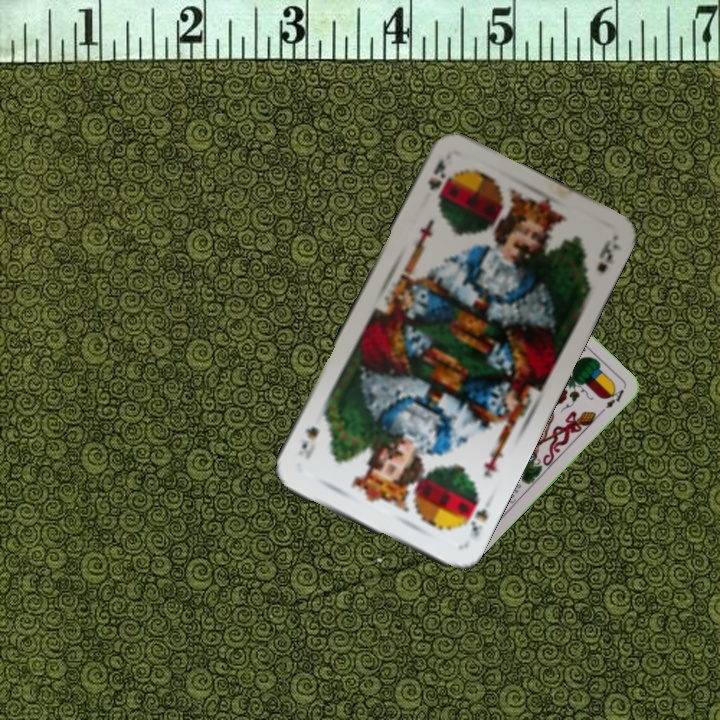SK: (456, 492, 491, 540), (424, 154, 452, 201)
